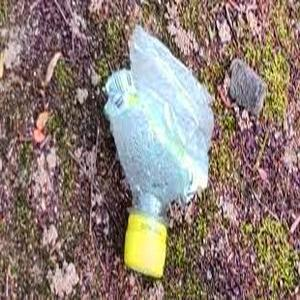Plastic: (101, 28, 213, 279)
